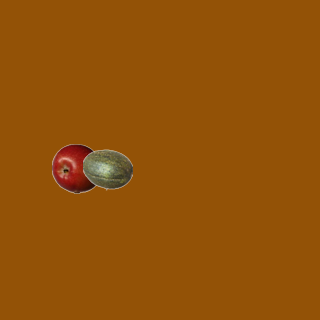Apple Braeburn: (51, 143, 101, 193)
Melon Piel de Sapo: (82, 144, 132, 194)
